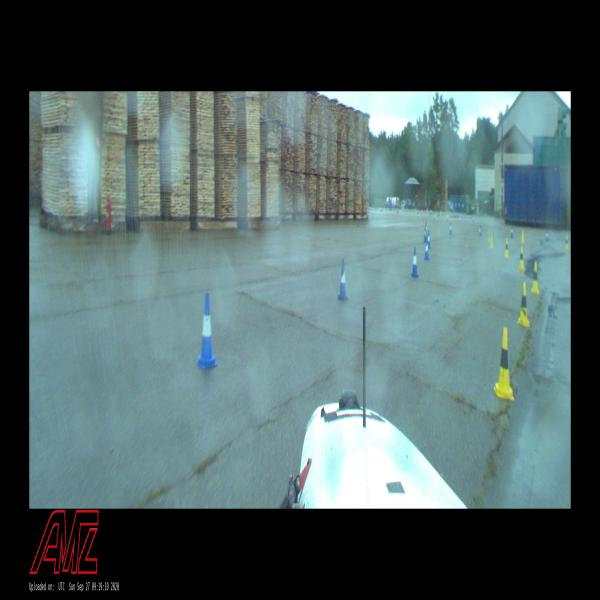blue_cone: (195, 294, 218, 369), (338, 260, 349, 301), (411, 247, 419, 277), (424, 238, 430, 260), (449, 222, 453, 235), (424, 226, 427, 243), (428, 231, 431, 248), (478, 224, 482, 236), (545, 231, 549, 241), (510, 226, 513, 238)
yellow_cone: (494, 327, 515, 400), (518, 282, 530, 327), (531, 262, 539, 294), (518, 246, 524, 269), (504, 239, 508, 256), (490, 233, 494, 248), (565, 235, 569, 250), (520, 231, 524, 242)
